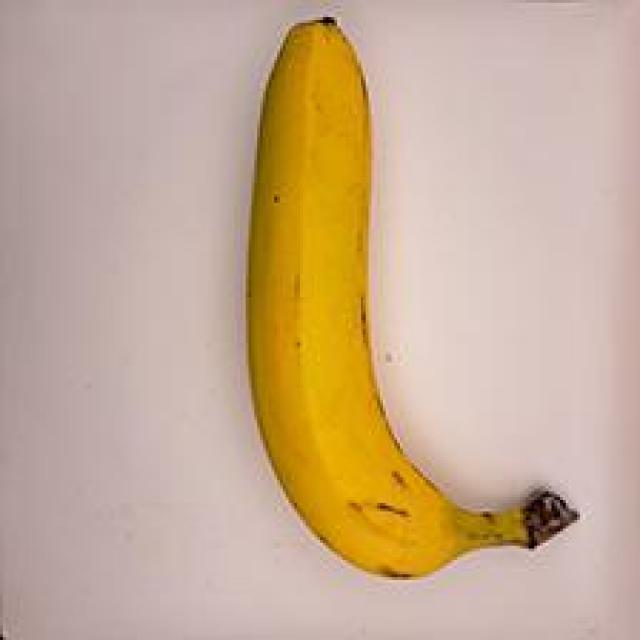Ripe: (206, 0, 597, 600)
